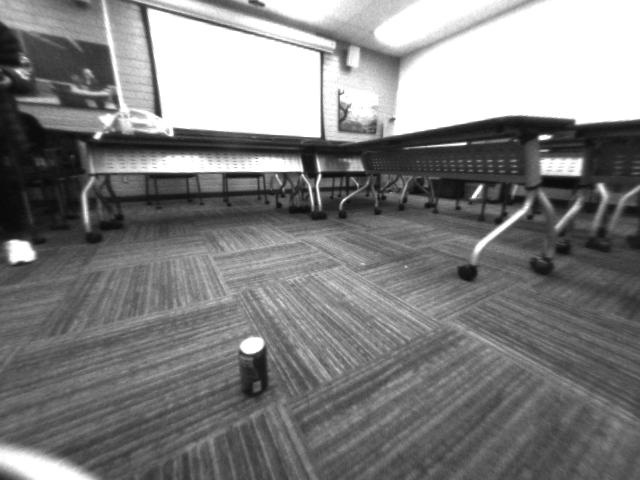can: (236, 331, 274, 403)
